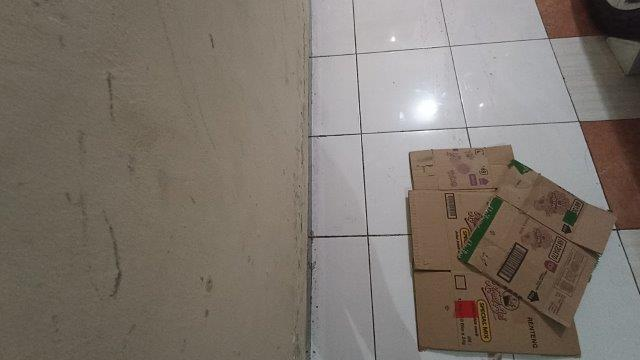kardus: (408, 146, 615, 353)
